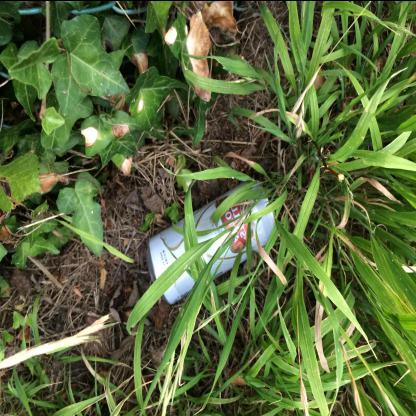metal: (146, 180, 278, 304)
